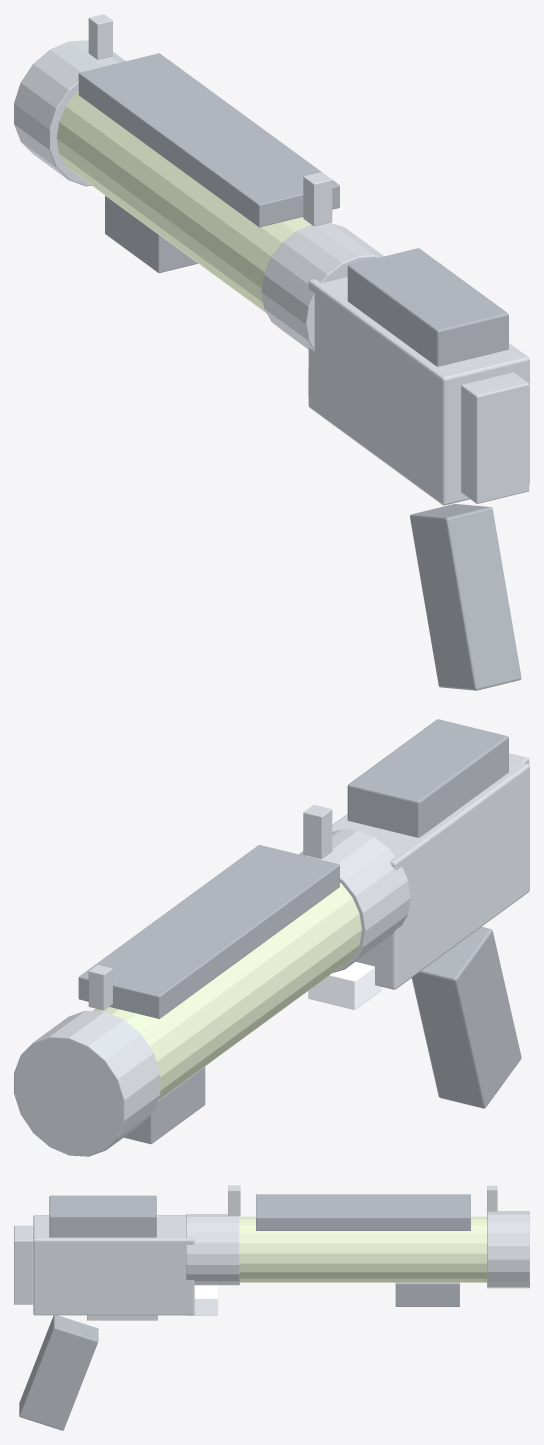
3 renders of one model, top to bottom at view 1: azimuth 30°, elevation 25°; view 2: azimuth 150°, elevation 25°; view 3: azimuth 270°, elevation 25°, orthographic. The views are drawn at different scales.
Parts seen in each view (by area): view 1: Receiver, _GlTopRail, _GlTube, Grip, TopCover, ButtPad, BreechSaddle, _GlFrontRing, _GlForegrip, _GlRearSight, _GlFrontSight; view 2: Receiver, _GlTopRail, _GlTube, _GlFrontRing, Grip, TopCover, BreechSaddle, _GlForegrip, HingeBlock, _GlRearSight, _GlFrontSight; view 3: Receiver, _GlTube, _GlTopRail, Grip, TopCover, BreechSaddle, _GlFrontRing, _GlForegrip, ButtPad, HingeBlock, TriggerGuard, _GlRearSight.
Part boxes in pixels (box(x1,y1,x2,y2)): Receiver: box(308, 277, 529, 505); _GlTopRail: box(78, 53, 339, 227); _GlTube: box(56, 91, 331, 313); Grip: box(410, 504, 521, 690); TopCover: box(347, 248, 508, 366); ButtPad: box(461, 372, 529, 503); BreechSaddle: box(261, 223, 384, 351); _GlFrontRing: box(14, 40, 125, 186); _GlForegrip: box(105, 195, 197, 273); _GlRearSight: box(303, 172, 332, 226); _GlFrontSight: box(88, 14, 112, 59); Receiver: box(332, 759, 529, 989); _GlTopRail: box(78, 845, 339, 1018); _GlTube: box(92, 882, 361, 1100); _GlFrontRing: box(14, 1010, 160, 1156); Grip: box(411, 926, 521, 1108); TopCover: box(347, 719, 508, 837); BreechSaddle: box(299, 829, 410, 972); _GlForegrip: box(124, 1066, 205, 1144); HingeBlock: box(308, 962, 381, 1009); _GlRearSight: box(303, 804, 332, 858); _GlFrontSight: box(88, 964, 112, 1010); Receiver: box(33, 1215, 194, 1315); _GlTube: box(239, 1216, 486, 1282); _GlTopRail: box(256, 1194, 470, 1230); Grip: box(19, 1315, 98, 1430); TopCover: box(49, 1195, 156, 1237); BreechSaddle: box(186, 1214, 239, 1285); _GlFrontRing: box(487, 1211, 529, 1288); _GlForegrip: box(395, 1282, 459, 1306); ButtPad: box(14, 1225, 33, 1304); HingeBlock: box(186, 1285, 218, 1315); TriggerGuard: box(87, 1315, 157, 1320); _GlRearSight: box(228, 1185, 240, 1215).
Bounding box in the file's own units: 0.0709 × 0.2428 × 0.48.
